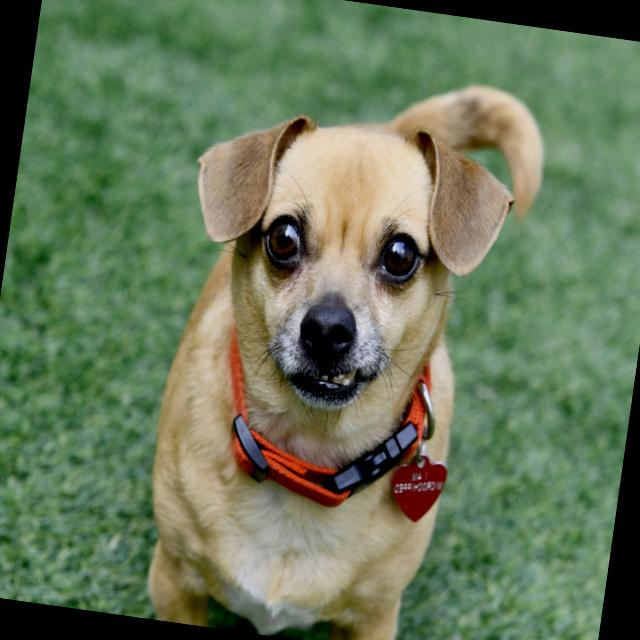chihuahua_dog: (152, 84, 530, 474)
